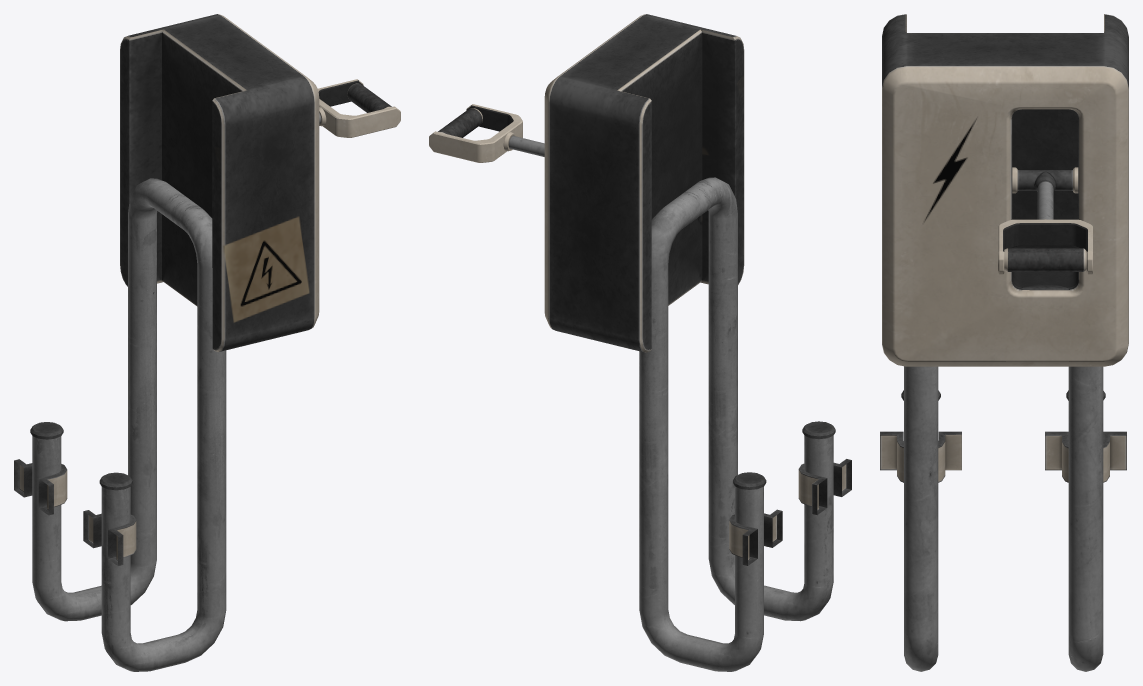
File: HoveringPlatformLever.fbx
3 renders of one model, left to right at view 1: azimuth 30°, elevation 25°; view 2: azimuth 150°, elevation 25°; view 3: azimuth 270°, elevation 25°, orthographic. The views are drawn at different scales.
Visible parts, largest first — view 1: HoveringPlatformPowerBox, HoveringPlatformPowerHandle; view 2: HoveringPlatformPowerBox, HoveringPlatformPowerHandle; view 3: HoveringPlatformPowerBox, HoveringPlatformPowerHandle.
Part boxes in pixels (left/top/right/bottom): HoveringPlatformPowerBox: left=14, top=14, right=319, bottom=671; HoveringPlatformPowerHandle: left=318, top=79, right=400, bottom=137; HoveringPlatformPowerBox: left=544, top=14, right=851, bottom=671; HoveringPlatformPowerHandle: left=429, top=104, right=544, bottom=162; HoveringPlatformPowerBox: left=880, top=14, right=1128, bottom=671; HoveringPlatformPowerHandle: left=998, top=167, right=1092, bottom=274.
Bounding box in the file's own units: 67.44 × 109 × 36.67.
